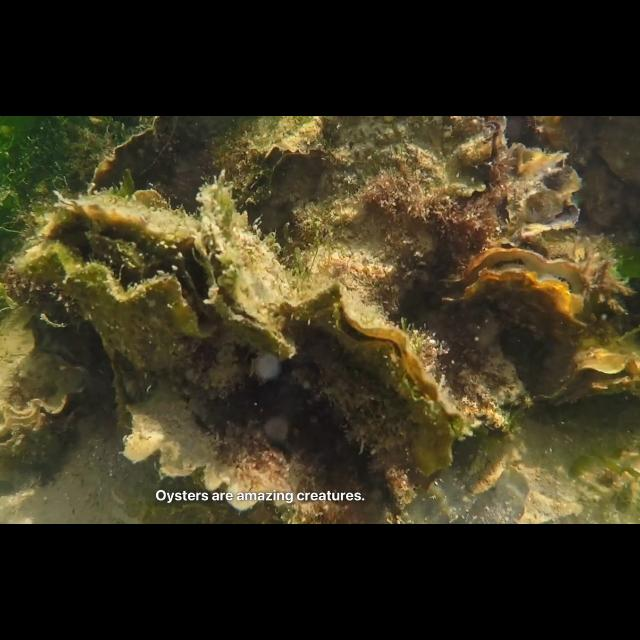Oyster-Closed: (85, 116, 185, 192)
Oyster-Open: (304, 116, 506, 316), (12, 193, 222, 374), (278, 278, 464, 476), (194, 182, 296, 362), (440, 248, 588, 346), (0, 350, 94, 464), (493, 141, 583, 247), (534, 344, 640, 410), (230, 116, 328, 186), (108, 355, 140, 441)
